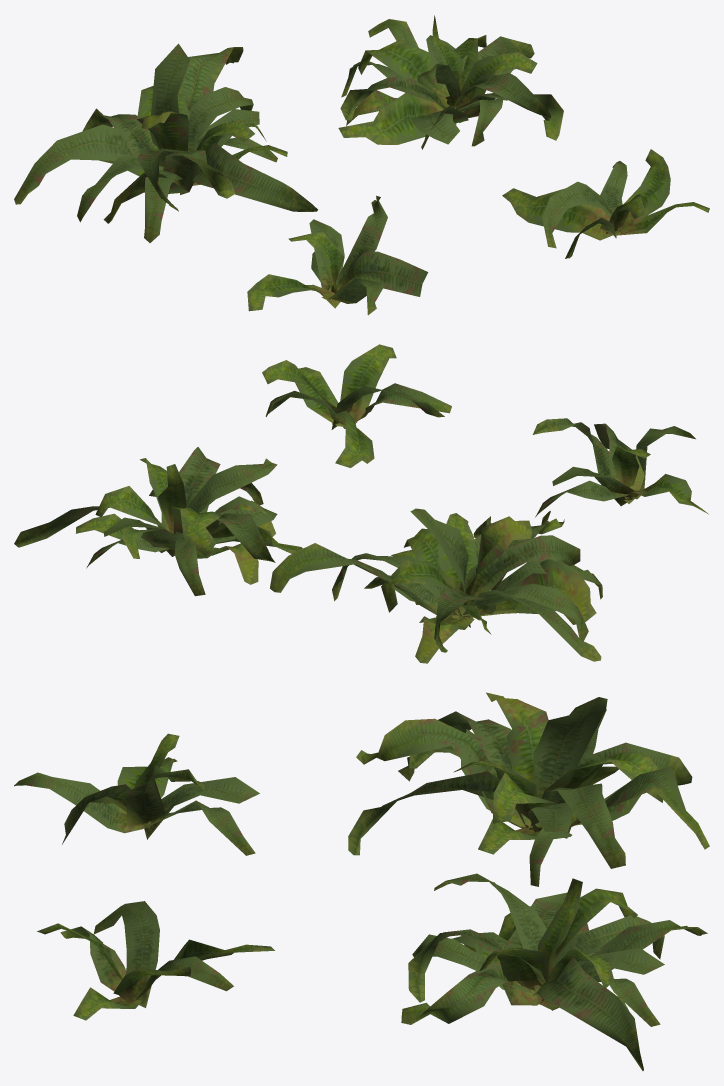
The model's file is fern_02.glb.
3 renders of one model, top to bottom at view 1: azimuth 30°, elevation 25°; view 2: azimuth 150°, elevation 25°; view 3: azimuth 270°, elevation 25°, orthographic. The views are drawn at different scales.
Visible parts, largest first — view 1: fern_02_b; view 2: fern_02_b; view 3: fern_02_b.
Boxes of the visible parts, <box> form: fern_02_b: <box>14,15,709,315</box>; fern_02_b: <box>14,344,708,663</box>; fern_02_b: <box>14,692,709,1070</box>.
Size of the model in its own units: 1.97 by 0.4277 by 1.72.
1 material, 1 textured.
